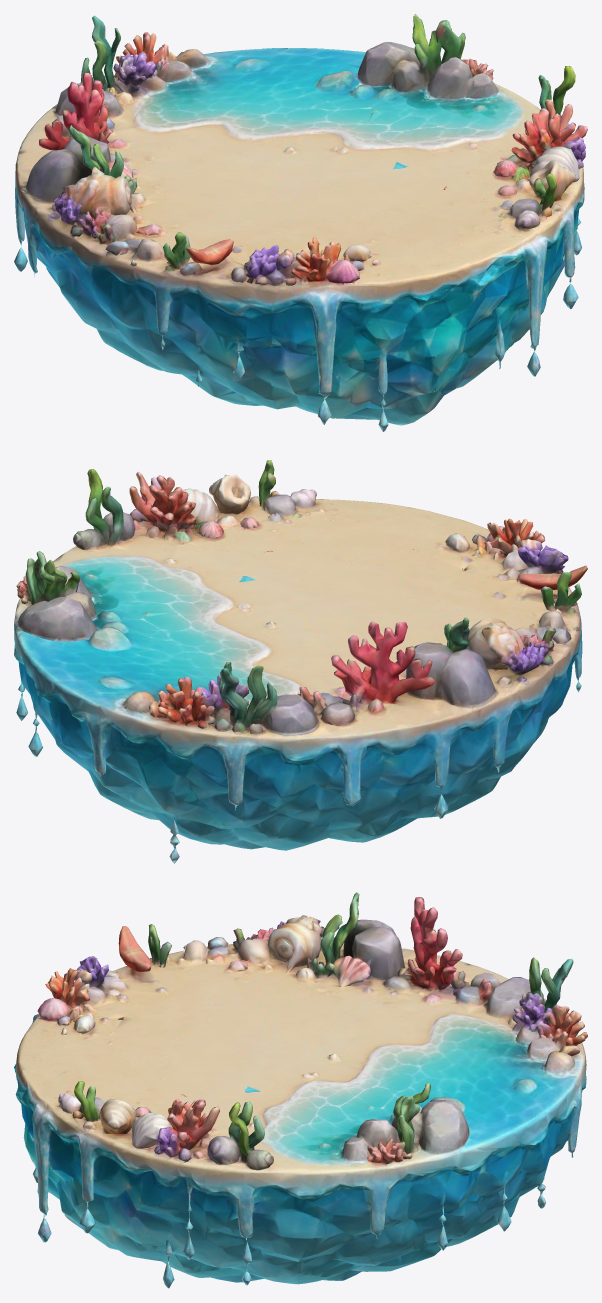
Rendered from star_sea.glb.
3 renders of one model, top to bottom at view 1: azimuth 30°, elevation 25°; view 2: azimuth 150°, elevation 25°; view 3: azimuth 270°, elevation 25°, orthographic.
Size of the model in its own units: 0.972 by 0.5365 by 1.
1 material, 1 textured.
